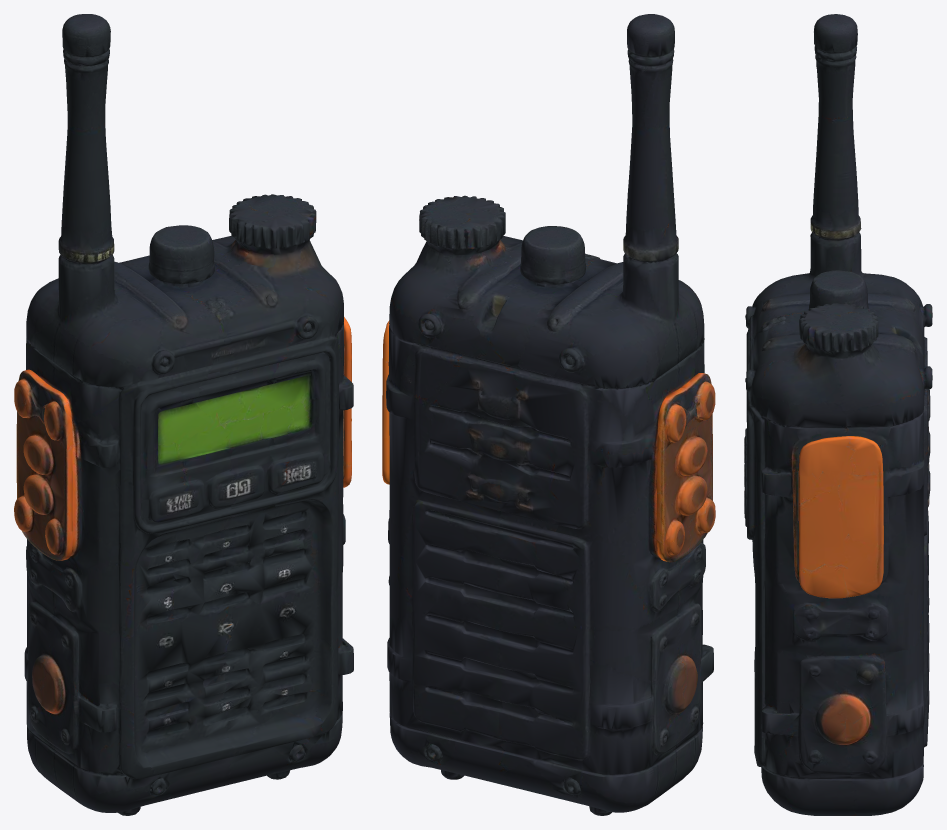
3 views of the same model, side by side, from view 1: azimuth 30°, elevation 25°; view 2: azimuth 150°, elevation 25°; view 3: azimuth 270°, elevation 25° (orthographic). The views are drawn at different scales.
Visible parts, largest first — view 1: mesh_node; view 2: mesh_node; view 3: mesh_node.
Boxes of the visible parts, x1,y1,x2,y2 form: mesh_node: (14, 14, 353, 815); mesh_node: (382, 14, 715, 815); mesh_node: (744, 14, 932, 815).
Size of the model in its own units: 0.7478 by 1.9 by 0.4543.
Materials: 1 (1 with a texture image).
